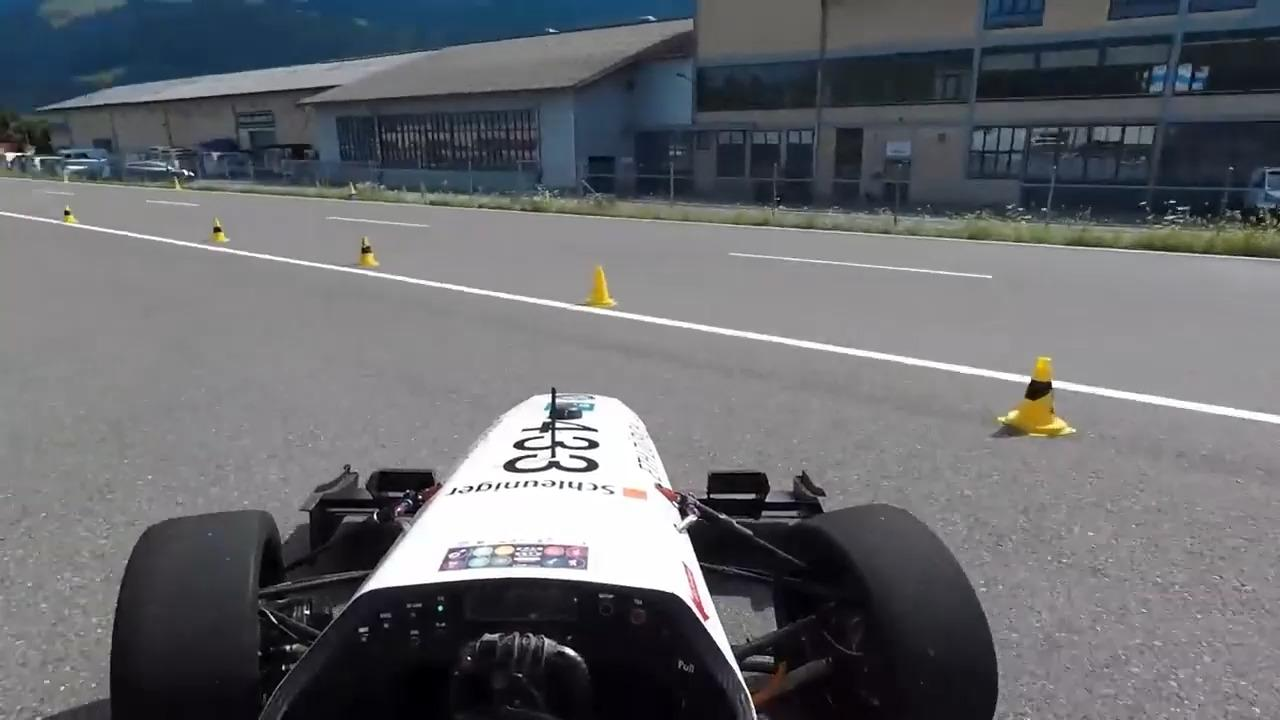yellow_cone: (1004, 353, 1069, 438), (578, 261, 614, 309), (354, 236, 378, 270), (206, 216, 227, 245), (60, 205, 77, 228)
